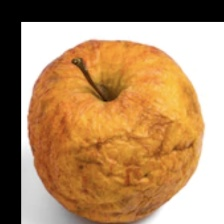apple: (41, 56, 224, 200)
